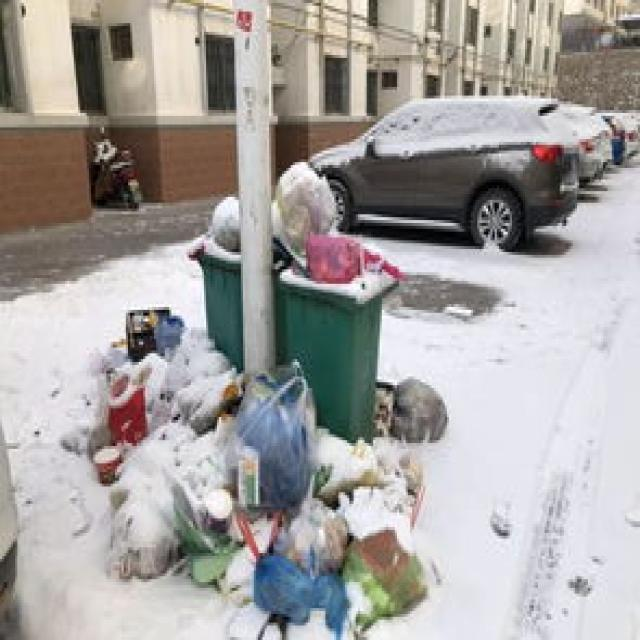garbage: (84, 304, 444, 637)
overflow: (272, 159, 402, 440), (187, 194, 243, 365)
